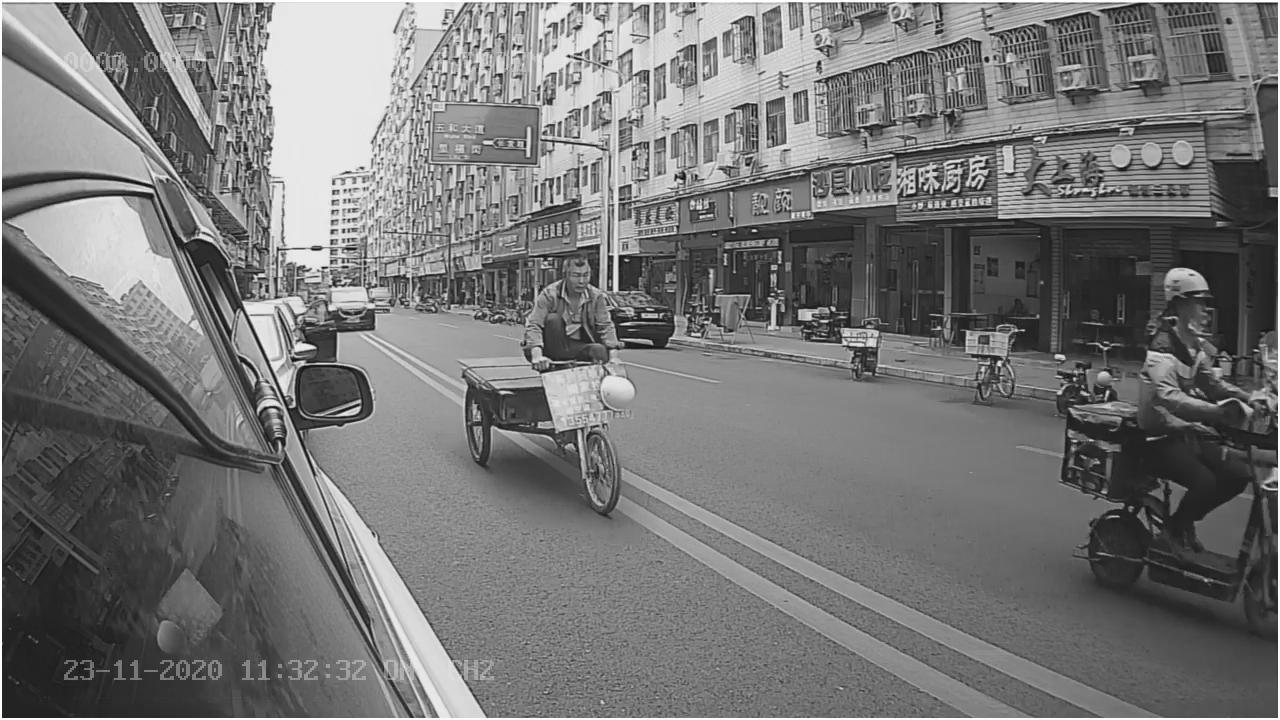person: (1129, 253, 1260, 415), (523, 247, 624, 374)
